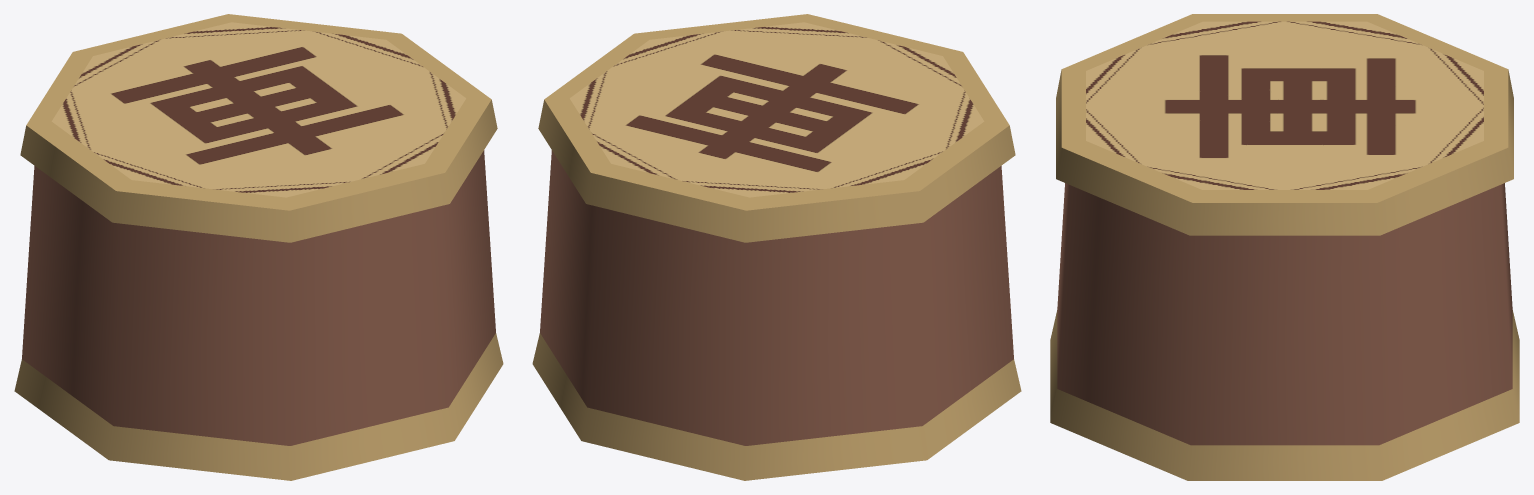
Rendered from Red5.glb.
3 views of the same model, side by side, from view 1: azimuth 30°, elevation 25°; view 2: azimuth 150°, elevation 25°; view 3: azimuth 270°, elevation 25° (orthographic). The views are drawn at different scales.
Parts seen in each view (by area): view 1: Red5; view 2: Red5; view 3: Red5.
Part boxes in pixels (<box>): Red5: <box>14,14,503,480</box>; Red5: <box>532,14,1021,480</box>; Red5: <box>1050,14,1519,480</box>.
Size of the model in its own units: 0.7668 by 0.497 by 0.7668.
3 materials, 1 textured.
